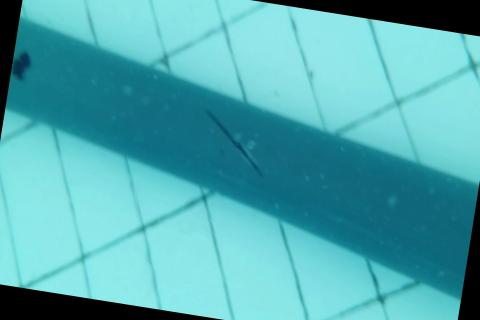kebocoran: (9, 47, 33, 83)
keretakan: (196, 109, 274, 177)
